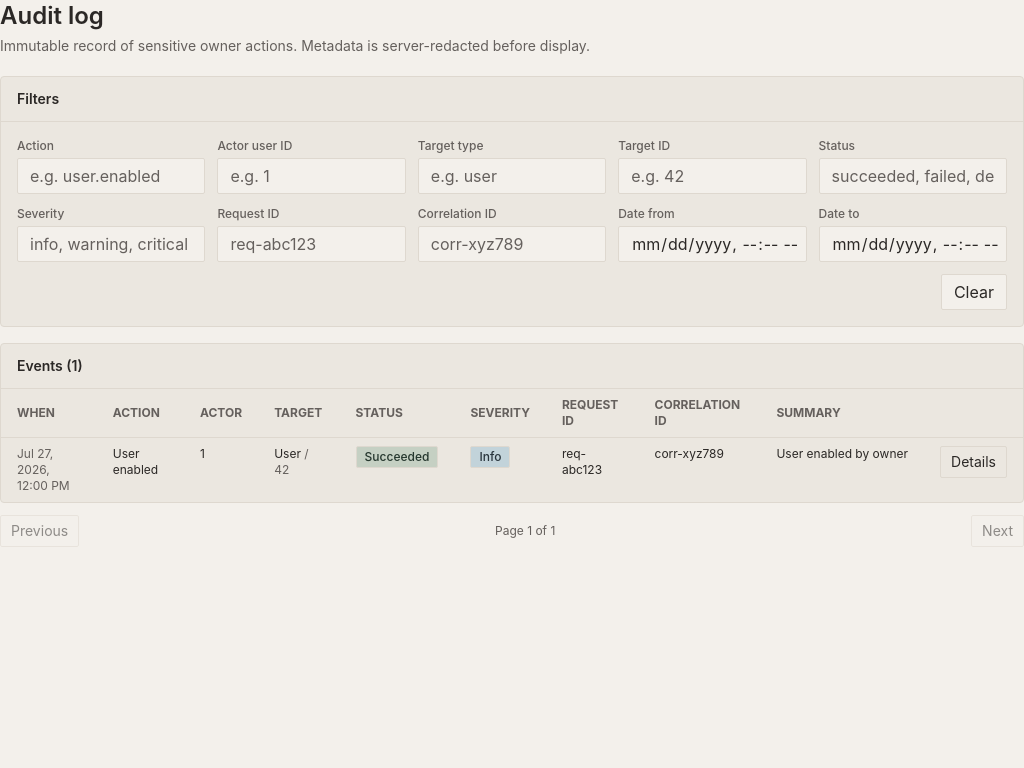
Test: AuditPage detail dialog › shows error state when detail query fails
Expected: the text "User enabled" is shown, left=113, top=446, right=158, bottom=477
Click the button with aria-label "View details for audit event 1".
click(974, 462)  # box left=940, top=446, right=1007, bottom=478
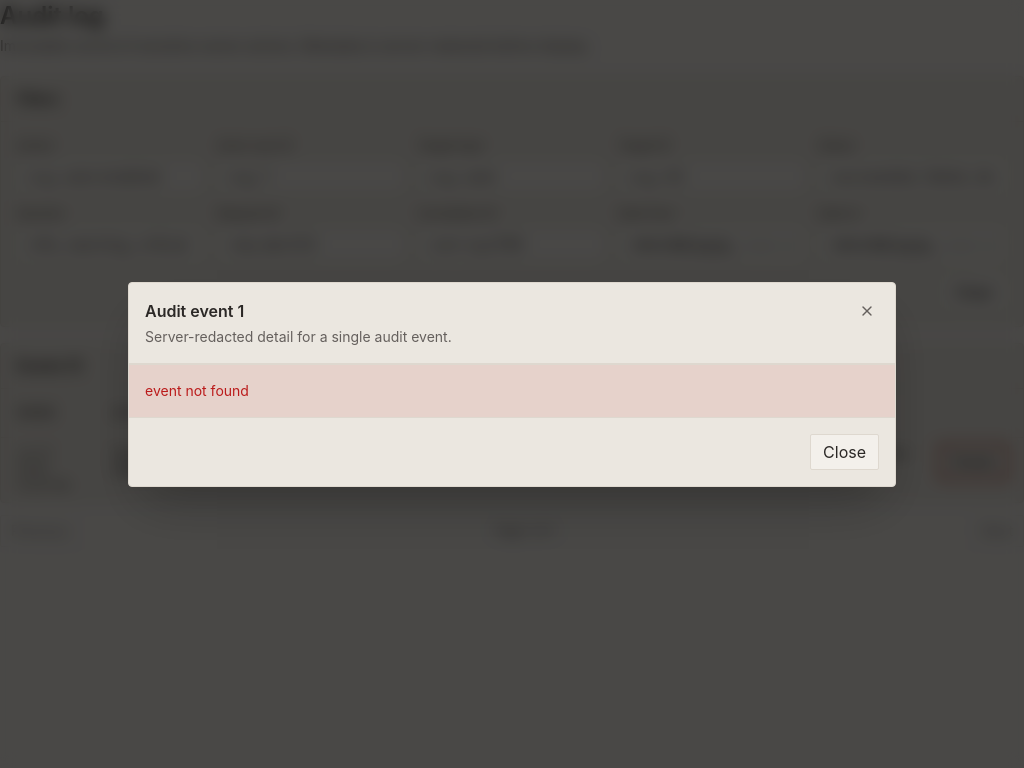
Now the text "event not found" is shown, box left=129, top=364, right=895, bottom=416
